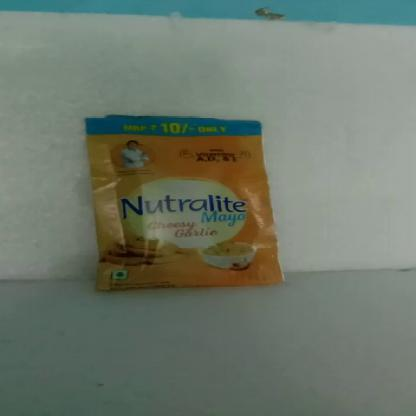Nutralite CHEESY GARLIC MAYO 30g: (94, 115, 268, 286)
